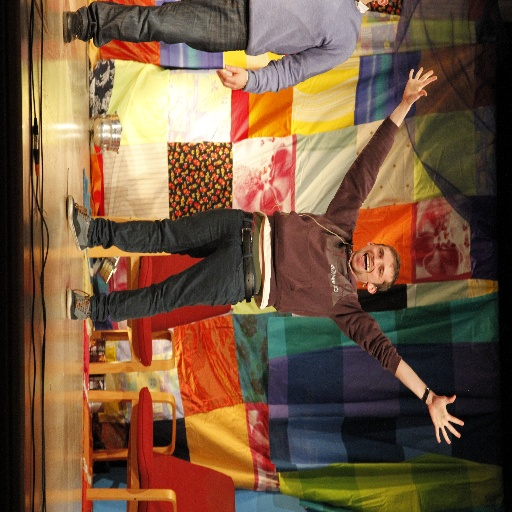hand: (396, 55, 440, 108), (428, 393, 464, 444), (215, 62, 247, 90)
